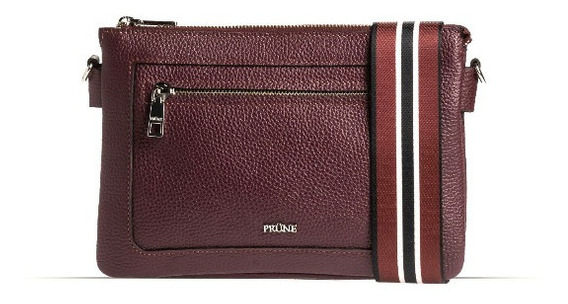cartera: (84, 15, 479, 283)
